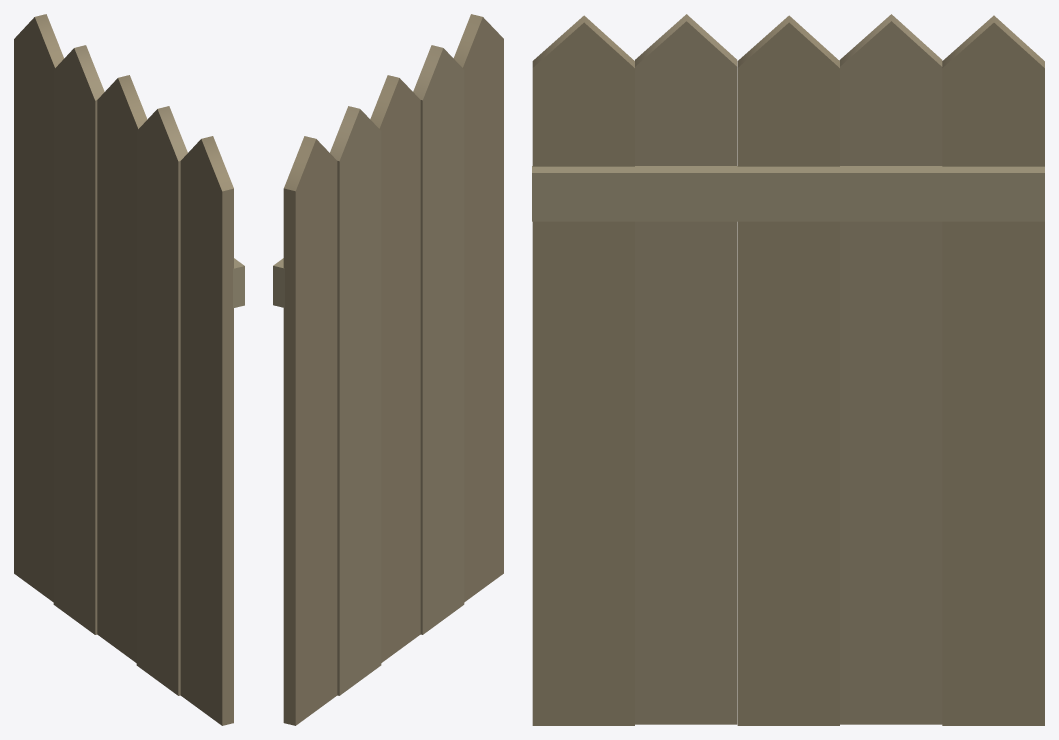
Rendered from fence_5posts.fbx.
3 renders of one model, left to right at view 1: azimuth 30°, elevation 25°; view 2: azimuth 150°, elevation 25°; view 3: azimuth 270°, elevation 25°, orthographic. The views are drawn at different scales.
Parts seen in each view (by area): view 1: pCube105, pCube107, pCube104, pCube106, pCube108, pCube109; view 2: pCube108, pCube104, pCube107, pCube105, pCube106, pCube109; view 3: pCube105, pCube106, pCube108, pCube104, pCube107, pCube109.
Part boxes in pixels (<box>): pCube105: <box>180,136,233,725</box>; pCube107: <box>53,45,104,634</box>; pCube104: <box>136,106,187,695</box>; pCube106: <box>97,75,147,662</box>; pCube108: <box>14,14,63,602</box>; pCube109: <box>233,258,244,308</box>; pCube108: <box>283,136,337,725</box>; pCube104: <box>413,45,464,634</box>; pCube107: <box>330,106,381,695</box>; pCube105: <box>453,14,503,602</box>; pCube106: <box>370,75,420,662</box>; pCube109: <box>273,258,284,307</box>; pCube105: <box>532,15,634,725</box>; pCube106: <box>737,15,839,725</box>; pCube108: <box>942,15,1044,725</box>; pCube104: <box>635,14,737,724</box>; pCube107: <box>839,14,942,724</box>; pCube109: <box>532,166,1044,221</box>.
Size of the model in its own units: 0.0484 by 1.07 by 0.7068.
